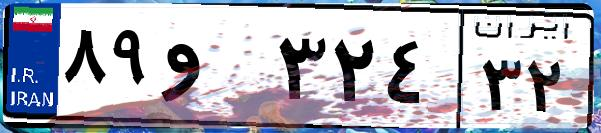2: (330, 28, 385, 110), (525, 38, 570, 115)
3: (270, 28, 330, 110), (475, 38, 525, 113)
4: (385, 28, 445, 110)
8: (57, 26, 110, 100)
9: (110, 28, 158, 98)
و: (158, 20, 270, 120)
